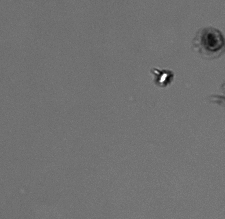Dead Cell: (201, 28, 223, 52)
Living Cell: (154, 68, 172, 87)
